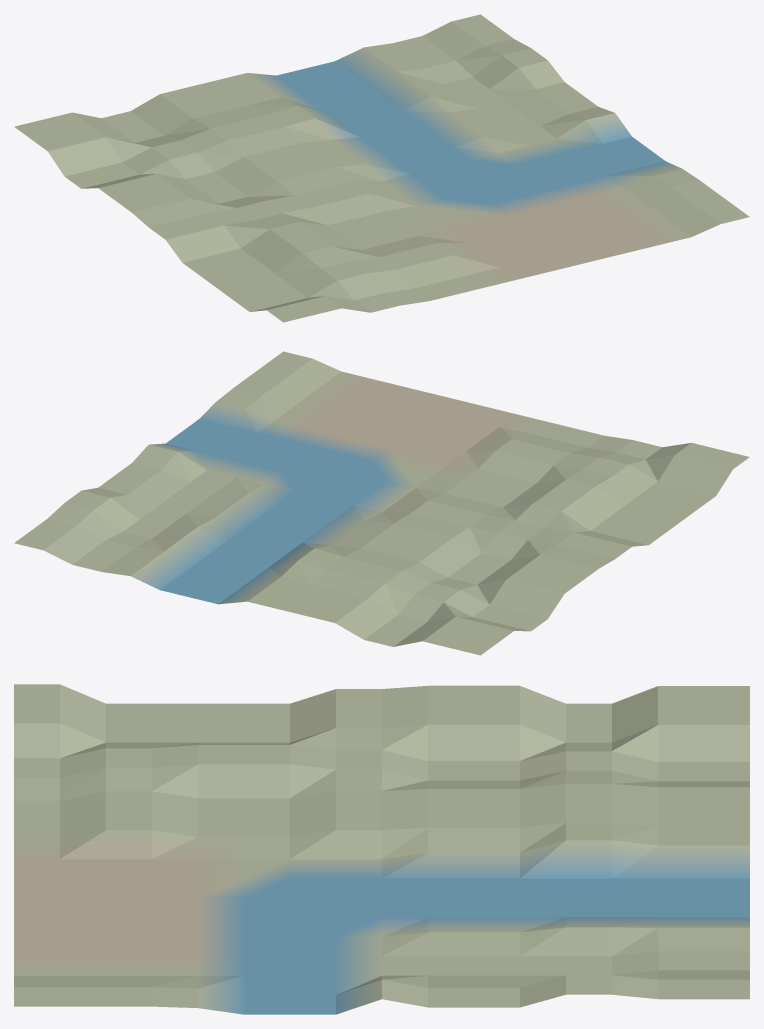
3 views of the same model, one above another, from view 1: azimuth 30°, elevation 25°; view 2: azimuth 150°, elevation 25°; view 3: azimuth 270°, elevation 25° (orthographic). The views are drawn at different scales.
Size of the model in its own units: 32 by 0.9571 by 32.
